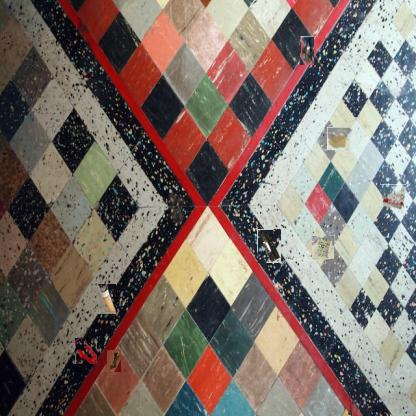dirty: (257, 229, 281, 263), (380, 184, 406, 209), (98, 284, 116, 314), (312, 236, 335, 258), (300, 36, 314, 65), (107, 350, 121, 372)
liquid: (76, 338, 98, 364), (327, 127, 350, 150)
